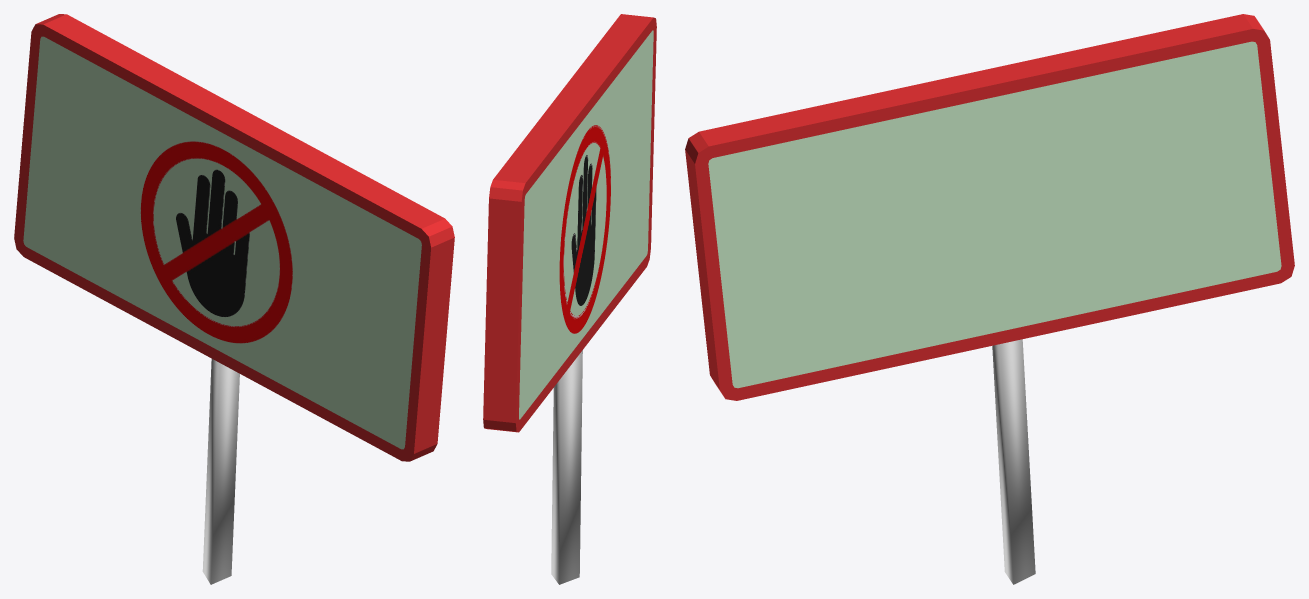
The model's file is Sign.fbx.
The picture shows the model from 3 angles, left to right: view 1: azimuth 30°, elevation 25°; view 2: azimuth 150°, elevation 25°; view 3: azimuth 270°, elevation 25°; orthographic projection. The views are drawn at different scales.
Visible parts, largest first — view 1: istockphoto-1079516802-612x612, istockphoto-1079516802-612x612.001, Cylinder; view 2: istockphoto-1079516802-612x612, Cylinder, istockphoto-1079516802-612x612.001; view 3: istockphoto-1079516802-612x612, Cylinder.
Part boxes in pixels (x1=…): istockphoto-1079516802-612x612: x1=14, y1=14, x2=454, y2=461; istockphoto-1079516802-612x612.001: x1=140, y1=141, x2=292, y2=343; Cylinder: x1=202, y1=359, x2=239, y2=584; istockphoto-1079516802-612x612: x1=483, y1=14, x2=656, y2=432; Cylinder: x1=551, y1=350, x2=582, y2=584; istockphoto-1079516802-612x612.001: x1=559, y1=125, x2=610, y2=333; istockphoto-1079516802-612x612: x1=685, y1=14, x2=1294, y2=400; Cylinder: x1=992, y1=339, x2=1035, y2=584.
Bounding box in the file's own units: 23.59 × 67.05 × 70.12.
Materials: 4 (1 with a texture image).
